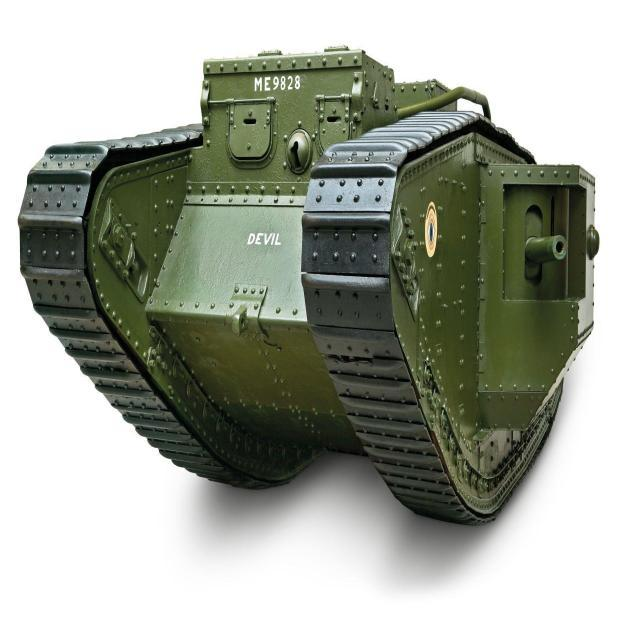MIL_MBT: (12, 44, 601, 537)
